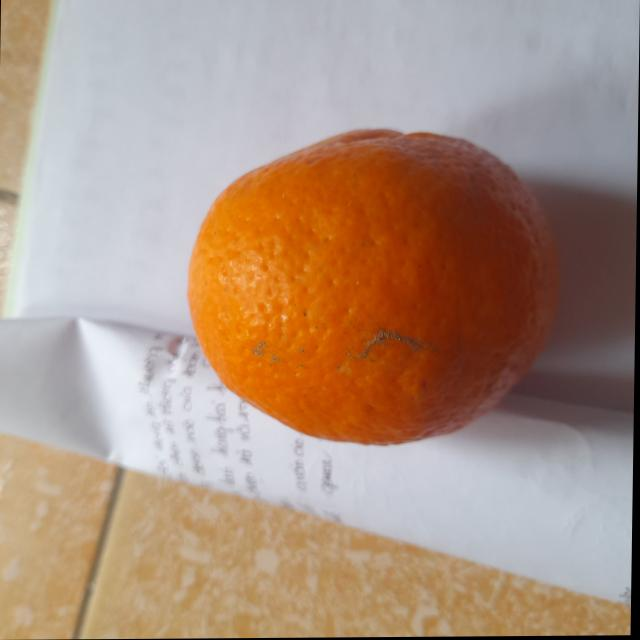Cam: (182, 119, 566, 461)
